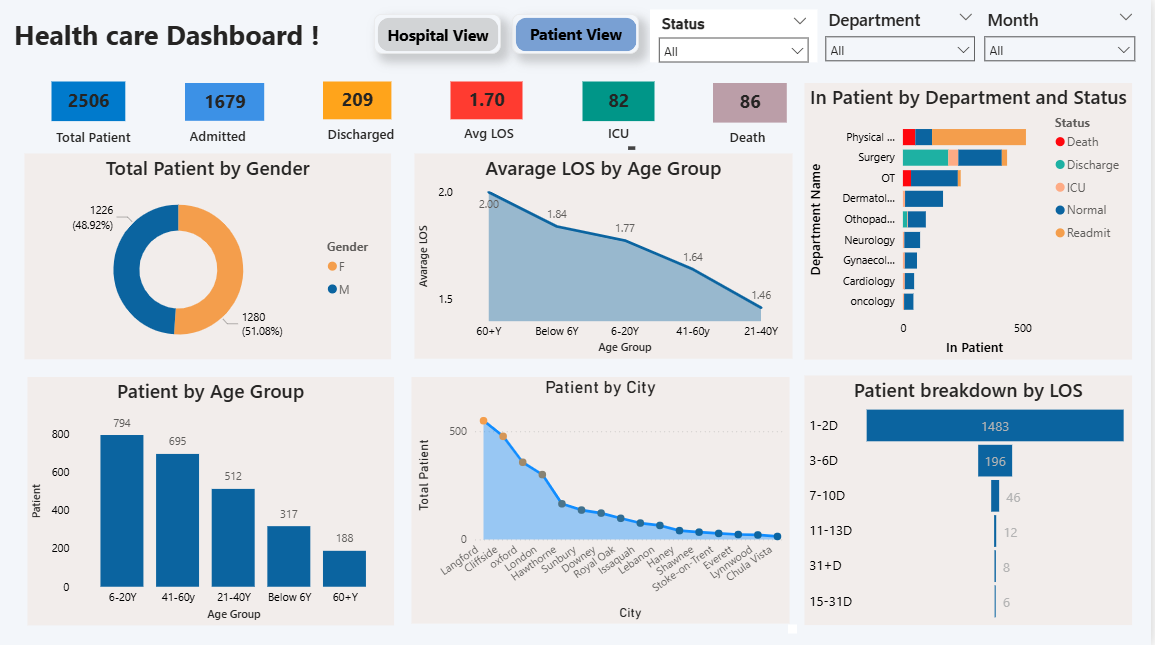

What the dashboard file says about the page in this screenshot:
{"tool":"powerbi","page":{"name":"Patient Report","canvas":[1280,720],"ordinal":1},"visuals":[{"type":"card","fields":{"Values":["Measure.Total Patient"]},"box":[58,92,82,44],"z":0},{"type":"card","title":"Admission","fields":{"Values":["Measure.In Patient"]},"box":[206,94,88,42],"z":1000},{"type":"card","fields":{"Values":["Bed_Detail.Discharge"]},"box":[360,92,76,42],"z":2000},{"type":"donutChart","fields":{"Category":["Detail data dataset.Gender"],"Y":["Measure.Total Patient"]},"box":[28.6,171.4,407.1,228.6],"z":3000},{"type":"columnChart","fields":{"Y":["Measure.Total Patient"],"Category":["Detail data dataset.Age Bucket"]},"box":[31.4,420,407.1,275.7],"z":4000},{"type":"funnel","title":"Patient breakdown by LOS","fields":{"Y":["Measure.Total Patient"],"Category":["Detail data dataset.Custom"]},"box":[894.3,418.6,364.3,277.1],"z":5000},{"type":"areaChart","fields":{"Y":["Measure.Avarage LOS"],"Category":["Detail data dataset.Age Bucket"]},"box":[462,172,420,228],"z":6000},{"type":"barChart","title":"In Patient by Department and Status","fields":{"Category":["Department.Department_Name"],"Y":["Measure.In Patient"],"Series":["Detail data dataset.Status"]},"box":[894.3,92.9,364.3,307.1],"z":7000},{"type":"stackedAreaChart","title":"Patient by City","fields":{"Category":["Detail data dataset.City"],"Y":["Measure.Total Patient"]},"box":[458,420,420,274],"z":8000},{"type":"ScrollingTextVisual1448795304508","fields":{"Measure Absolute":["Measure.Total Patient"],"Measure Deviation":["Measure.Scrollar"],"Category":["Detail data dataset.City"]},"box":[877,694.7,2,10.1],"z":9000},{"type":"card","fields":{"Values":["Measure.Avarage LOS"]},"box":[502,92,80,42],"z":10000},{"type":"slicer","fields":{"Values":["Calendar_date.MonthName"]},"box":[1085.7,5.7,187.1,70],"z":11000},{"type":"slicer","fields":{"Values":["Department.Department_Name"]},"box":[908.6,5.7,185.7,64.3],"z":12000},{"type":"textbox","title":"Total Patient","box":[58,144,98,22],"z":14000},{"type":"textbox","title":"Admitted","box":[206,142,96,20],"z":15000},{"type":"textbox","title":"Discharged","box":[360,140,98,22],"z":16000},{"type":"card","fields":{"Values":["Measure.ICU"]},"box":[648,92,80,44],"z":17000},{"type":"textbox","title":"Avg LOS","box":[512,138,116,22],"z":18000},{"type":"textbox","title":"ICU","box":[672,138,40,34],"z":19000},{"type":"card","fields":{"Values":["Measure.Death"]},"box":[794,94,82,44],"z":20000},{"type":"textbox","title":"Death","box":[806,144,60,24],"z":21000},{"type":"textbox","box":[468.6,414.3,410,32.9],"z":22000},{"type":"textbox","title":"Health care Dashboard !","box":[12.5,18.7,388.9,48.4],"z":23000},{"type":"actionButton","box":[417,16.3,140.6,43.7],"z":24000},{"type":"actionButton","box":[570.1,16.3,140.6,43.7],"z":25000},{"type":"slicer","fields":{"Values":["Detail data dataset.Status"]},"box":[723,12.2,186.3,58.7],"z":25001},{"type":"card","fields":{"Values":["CountNonNull(Detail data dataset.ID)"]},"box":[100,100,300,300],"z":25002}]}

Visuals, with their boxes in screenshot pixels (x1, y1, x2, y2), scaled from the page's 1280x720 canvas onto the 1155x645 screenshot:
card - Measure.Total Patient: bbox=(52, 82, 126, 122)
"Admission" card: bbox=(186, 84, 265, 122)
card - Bed_Detail.Discharge: bbox=(325, 82, 393, 120)
donutChart - Detail data dataset.Gender x Measure.Total Patient: bbox=(26, 154, 393, 358)
columnChart - Measure.Total Patient x Detail data dataset.Age Bucket: bbox=(28, 376, 396, 623)
"Patient breakdown by LOS" funnel: bbox=(807, 375, 1136, 623)
areaChart - Measure.Avarage LOS x Detail data dataset.Age Bucket: bbox=(417, 154, 796, 358)
"In Patient by Department and Status" barChart: bbox=(807, 83, 1136, 358)
"Patient by City" stackedAreaChart: bbox=(413, 376, 792, 622)
ScrollingTextVisual1448795304508 - Measure.Total Patient x Measure.Scrollar: bbox=(791, 622, 793, 631)
card - Measure.Avarage LOS: bbox=(453, 82, 525, 120)
slicer - Calendar_date.MonthName: bbox=(980, 5, 1149, 68)
slicer - Department.Department_Name: bbox=(820, 5, 987, 63)
"Total Patient" textbox: bbox=(52, 129, 141, 149)
"Admitted" textbox: bbox=(186, 127, 273, 145)
"Discharged" textbox: bbox=(325, 125, 413, 145)
card - Measure.ICU: bbox=(585, 82, 657, 122)
"Avg LOS" textbox: bbox=(462, 124, 567, 143)
"ICU" textbox: bbox=(606, 124, 642, 154)
card - Measure.Death: bbox=(716, 84, 790, 124)
"Death" textbox: bbox=(727, 129, 781, 150)
textbox: bbox=(423, 371, 793, 401)
"Health care Dashboard !" textbox: bbox=(11, 17, 362, 60)
actionButton: bbox=(376, 15, 503, 54)
actionButton: bbox=(514, 15, 641, 54)
slicer - Detail data dataset.Status: bbox=(652, 11, 821, 64)
card - CountNonNull(Detail data dataset.ID): bbox=(90, 90, 361, 358)
